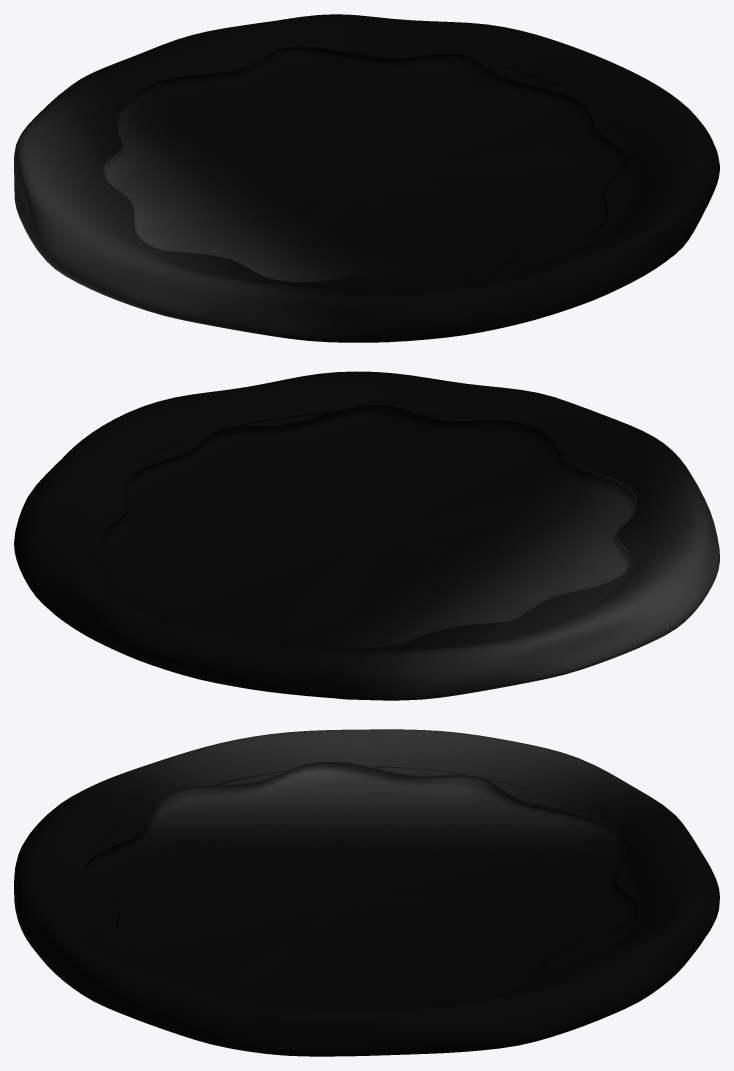
Rendered from PizzaBurnt.glb.
3 renders of one model, top to bottom at view 1: azimuth 30°, elevation 25°; view 2: azimuth 150°, elevation 25°; view 3: azimuth 270°, elevation 25°, orthographic.
Visible parts, largest first — view 1: PizzaBurnt; view 2: PizzaBurnt; view 3: PizzaBurnt.
Boxes of the visible parts, left/top/right/bottom form: PizzaBurnt: left=14, top=14, right=719, bottom=342; PizzaBurnt: left=14, top=371, right=719, bottom=700; PizzaBurnt: left=14, top=729, right=719, bottom=1056.
Bounding box in the file's own units: 0.4144 × 0.0334 × 0.4109.
1 material, 1 textured.
